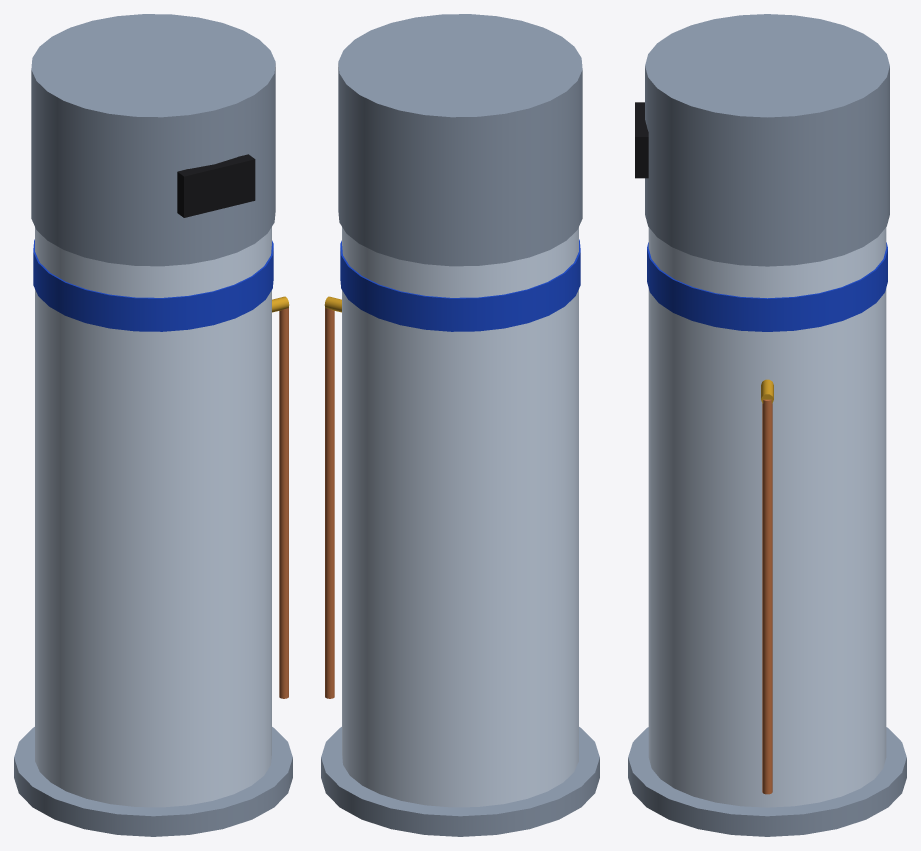
The model's file is wh-hybrid-hpwh.glb.
3 views of the same model, side by side, from view 1: azimuth 30°, elevation 25°; view 2: azimuth 150°, elevation 25°; view 3: azimuth 270°, elevation 25° (orthographic).
Parts seen in each view (by area): view 1: plumbing-equipment-water-heater-hpwh; view 2: plumbing-equipment-water-heater-hpwh; view 3: plumbing-equipment-water-heater-hpwh.
Part boxes in pixels (x1,y1,x2,y2): plumbing-equipment-water-heater-hpwh: (14,14,292,836); plumbing-equipment-water-heater-hpwh: (321,14,599,836); plumbing-equipment-water-heater-hpwh: (628,14,906,836).
Bounding box in the file's own units: 0.6455 × 1.72 × 0.61.
